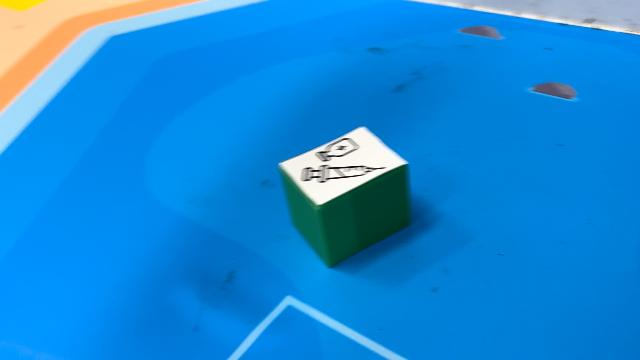syringe: (276, 126, 412, 268)
